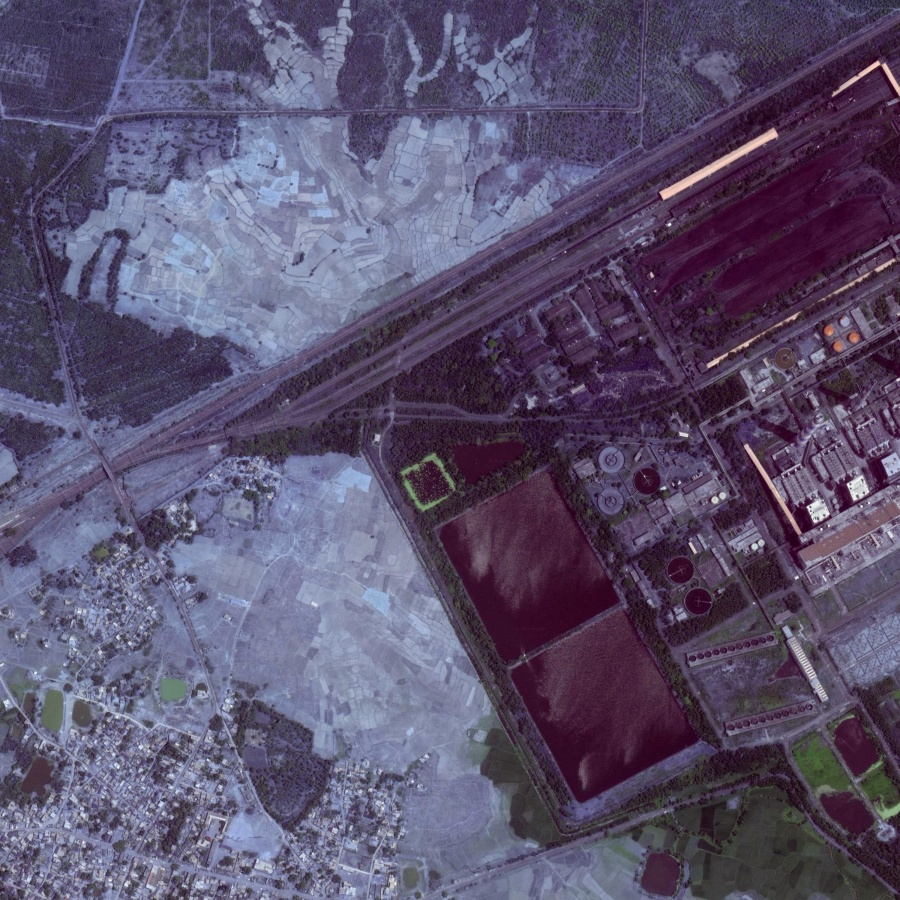PowerPlant: (410, 444, 772, 848)
